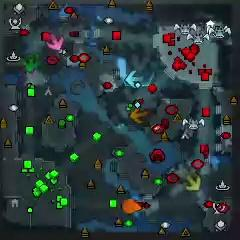p5: (121, 199, 142, 214)
x1: (47, 34, 64, 50)
x2: (185, 173, 201, 192)
x3: (125, 70, 145, 88)
x4: (21, 55, 41, 72)
x5: (130, 107, 149, 125)
